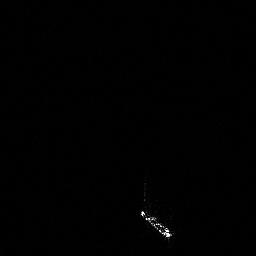ship: (137, 207, 176, 241)
